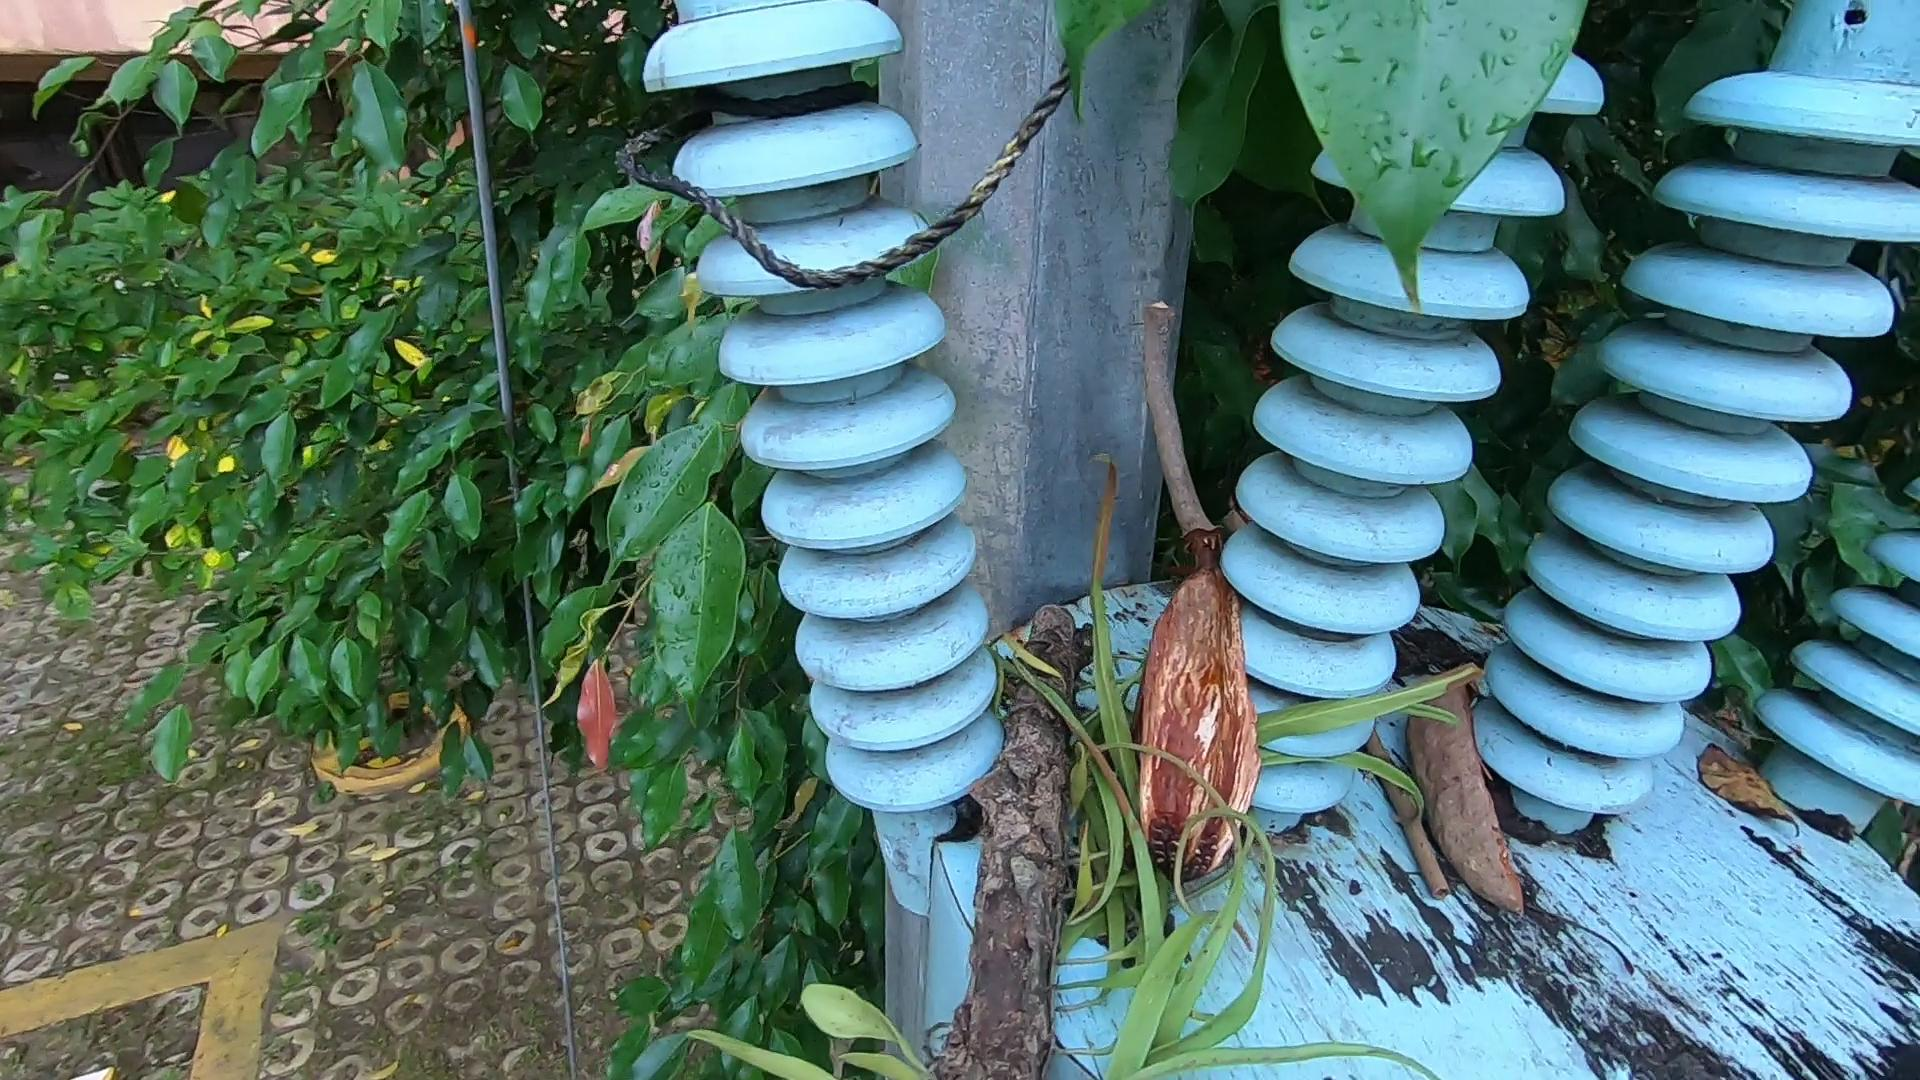branch with leaves: (939, 433, 1484, 1080)
leaf: (1697, 738, 1811, 832)
mahogany fruit: (1093, 505, 1278, 884), (1389, 628, 1539, 967), (1470, 808, 1472, 811)
tree branch: (1135, 291, 1229, 556), (1349, 719, 1458, 899)
